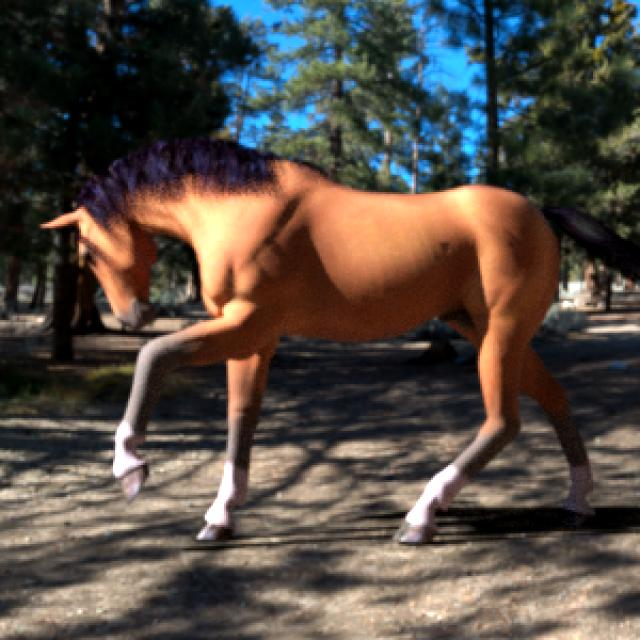horse: (45, 139, 639, 543)
